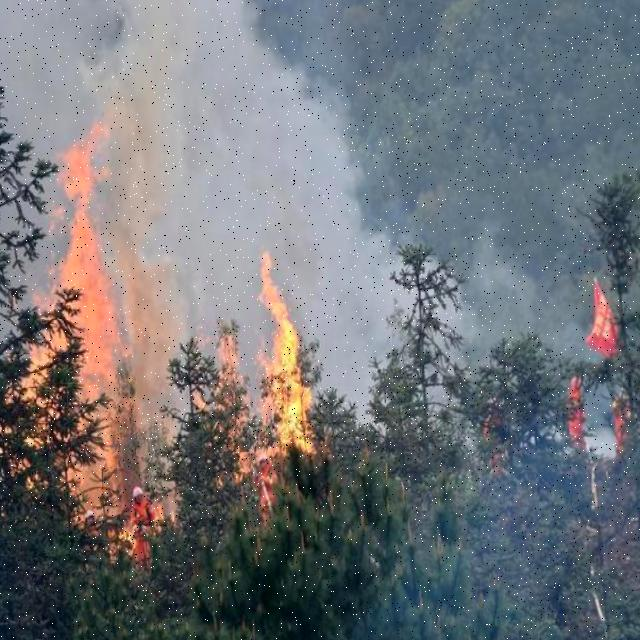fire: (29, 238, 155, 578), (243, 304, 342, 519)
smoke: (0, 0, 469, 453)
